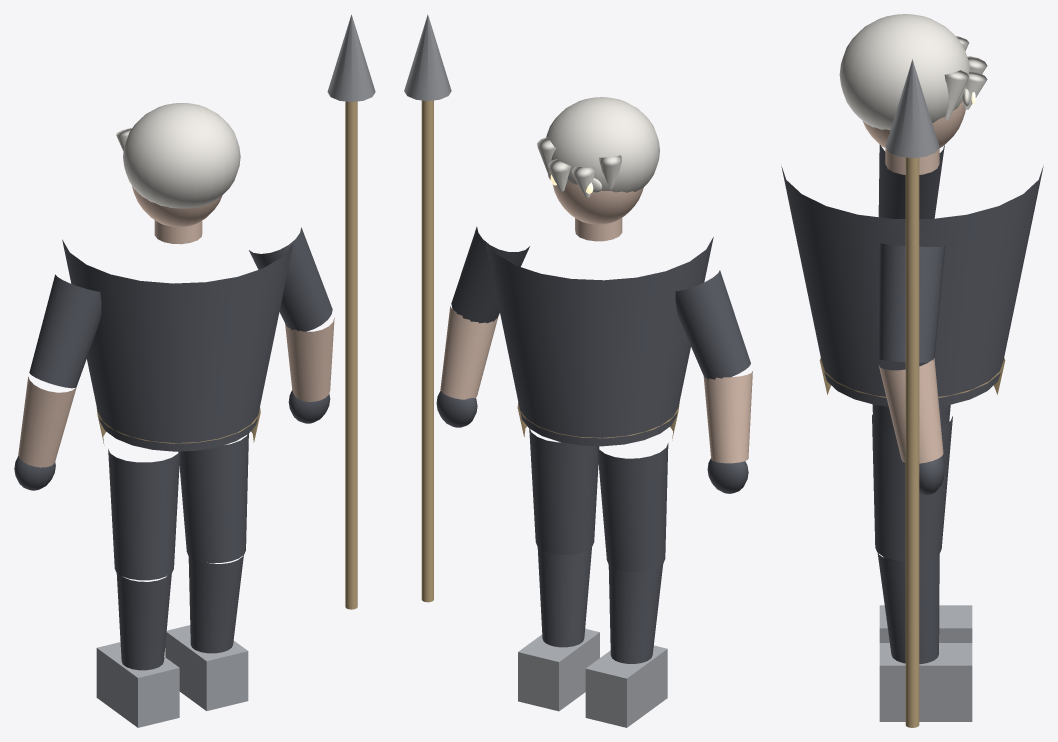
Rendered from bellatrice-procedural-v1.glb.
3 renders of one model, left to right at view 1: azimuth 30°, elevation 25°; view 2: azimuth 150°, elevation 25°; view 3: azimuth 270°, elevation 25°, orthographic. The views are drawn at different scales.
Visible parts, largest first — view 1: Outfit_Torso, Hair_Cap, Body_Thigh_L, Body_Thigh_R, Weapon_SpearShaft, Body_UpperArm_L, Outfit_Boot_L, Outfit_Boot_R, Body_Shin_R, Body_Shin_L, Body_UpperArm_R, Body_Forearm_L (+6 smaller); view 2: Outfit_Torso, Hair_Cap, Body_Thigh_L, Body_Thigh_R, Weapon_SpearShaft, Body_UpperArm_L, Outfit_Boot_L, Outfit_Boot_R, Body_Shin_R, Body_Shin_L, Body_Forearm_L, Body_Forearm_R (+6 smaller); view 3: Outfit_Torso, Hair_Cap, Weapon_SpearShaft, Body_Thigh_R, Outfit_Boot_R, Body_UpperArm_R, Body_Shin_R, Body_Forearm_R, Weapon_SpearHead, Body_UpperArm_L, Outfit_Boot_L, Body_Head (+5 smaller).
Boxes of the visible parts, x1,y1,x2,y2 form: Outfit_Torso: (62, 239, 293, 451); Hair_Cap: (123, 103, 240, 208); Body_Thigh_L: (108, 449, 180, 580); Body_Thigh_R: (178, 434, 248, 563); Weapon_SpearShaft: (345, 101, 357, 609); Body_UpperArm_L: (29, 274, 101, 388); Outfit_Boot_L: (96, 642, 179, 727); Outfit_Boot_R: (165, 625, 248, 710); Body_Shin_R: (188, 555, 243, 653); Body_Shin_L: (116, 573, 171, 670); Body_UpperArm_R: (249, 227, 332, 331); Body_Forearm_L: (18, 376, 76, 467); Outfit_Torso: (485, 237, 713, 446); Hair_Cap: (546, 97, 659, 192); Body_Thigh_L: (597, 443, 668, 571); Body_Thigh_R: (529, 428, 599, 554); Weapon_SpearShaft: (421, 100, 433, 602); Body_UpperArm_L: (675, 270, 750, 379); Outfit_Boot_L: (585, 645, 667, 727); Outfit_Boot_R: (518, 628, 599, 711); Body_Shin_R: (537, 547, 591, 647); Body_Shin_L: (608, 563, 663, 663); Body_Forearm_L: (703, 371, 752, 463); Body_Forearm_R: (440, 306, 498, 399); Outfit_Torso: (781, 166, 1043, 406); Hair_Cap: (839, 14, 970, 130); Weapon_SpearShaft: (905, 157, 919, 727); Body_Thigh_R: (872, 414, 952, 561); Outfit_Boot_R: (879, 643, 972, 721); Body_UpperArm_R: (878, 243, 945, 362); Body_Shin_R: (877, 553, 939, 664); Body_Forearm_R: (878, 358, 943, 463); Weapon_SpearHead: (885, 59, 939, 158); Body_UpperArm_L: (878, 144, 944, 218); Outfit_Boot_L: (879, 605, 972, 642); Body_Head: (862, 101, 965, 148).
Bounding box in the file's own units: 1.13 × 1.99 × 0.6533.
